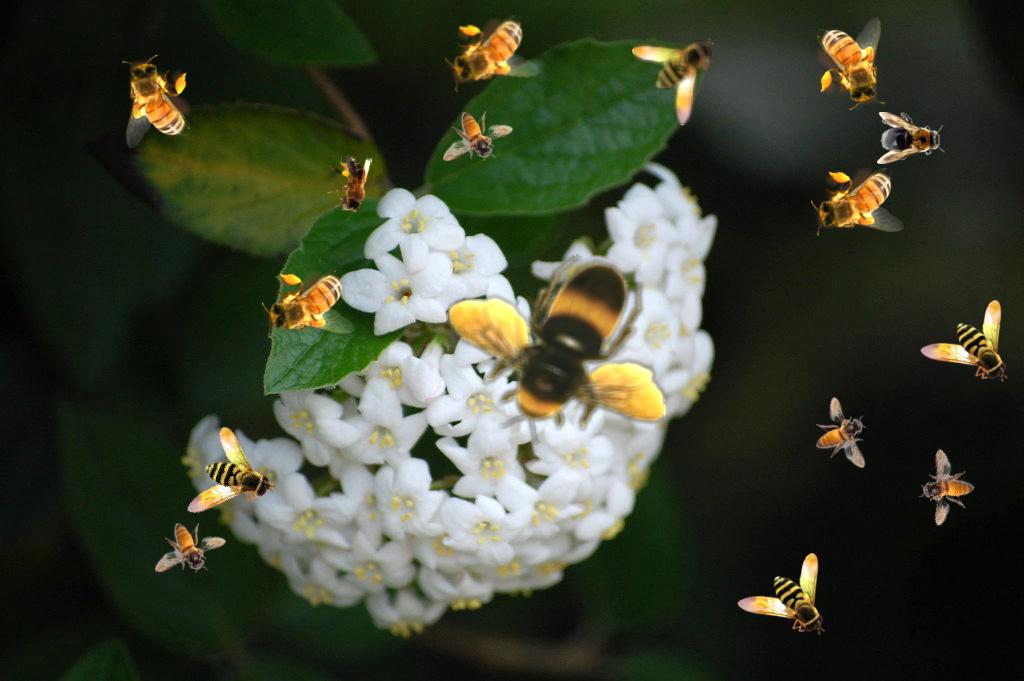Bee: (446, 254, 666, 445), (159, 420, 279, 538), (440, 12, 542, 93), (920, 300, 1008, 382), (632, 38, 714, 126), (737, 553, 825, 635), (908, 447, 984, 534), (122, 55, 190, 148), (811, 168, 904, 236), (817, 17, 885, 110), (262, 270, 355, 338), (442, 110, 514, 163), (155, 523, 226, 573), (816, 397, 866, 468), (877, 112, 945, 164), (327, 155, 372, 221)
